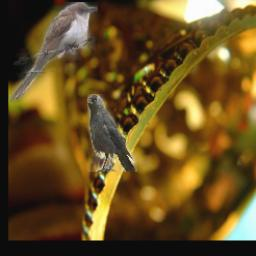Crow: (87, 94, 137, 172)
Cuckoo: (8, 3, 98, 103)
